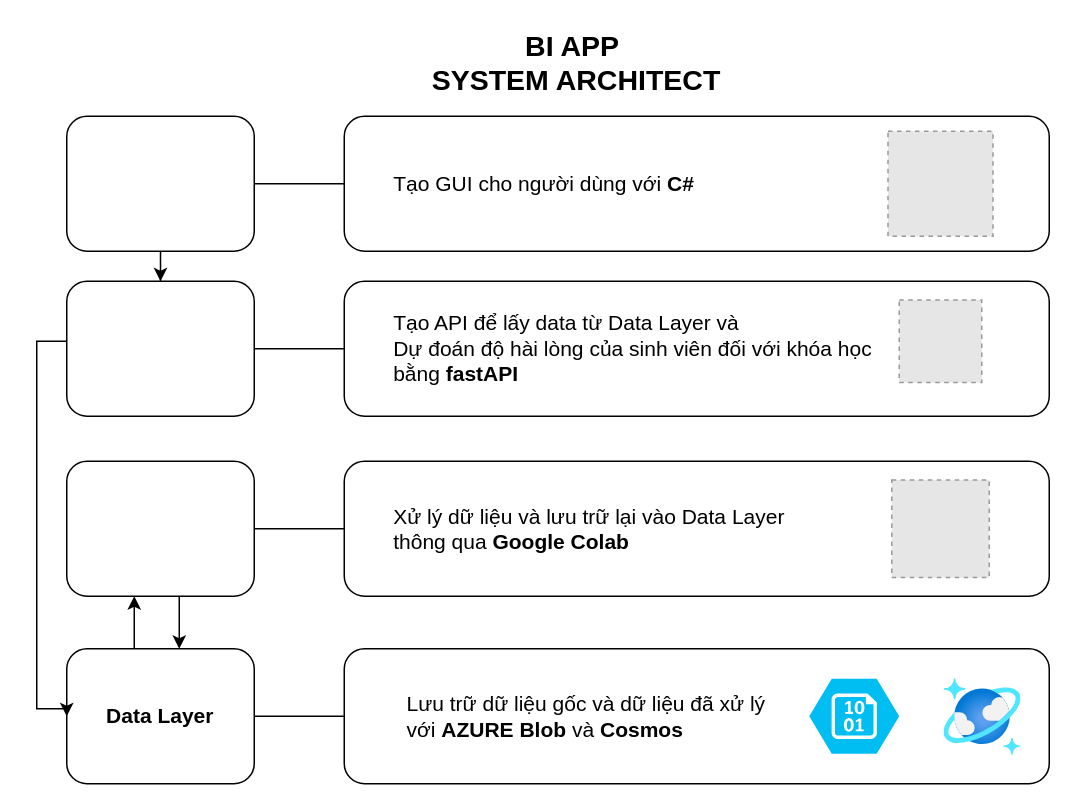
Image size: 1076x810. Some labels were removed from this diagram. Grey dashed boxes stand in for pictures. The shapes that lost their labels are listed below. From the top down, each one's centre as x and y in pixels, then its label:
At point (159, 183): "Presentation Layer".
At point (159, 348): "Application Layer".
At point (159, 528): "Processing Layer".
